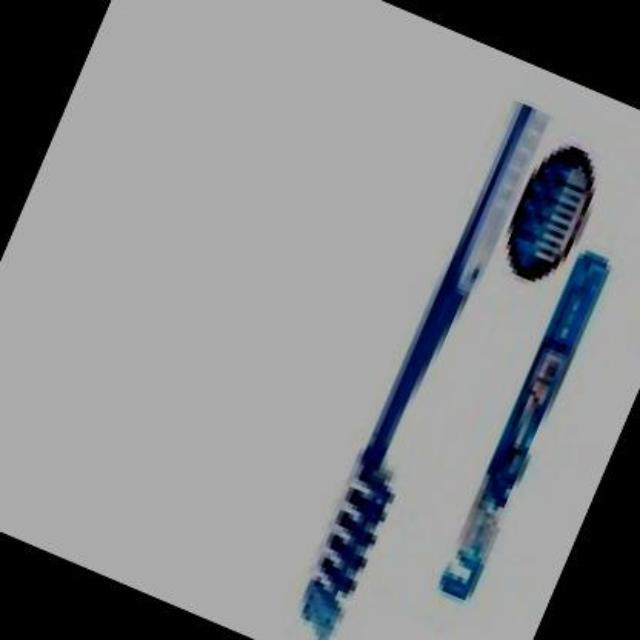toothbrush: (252, 52, 596, 638)
